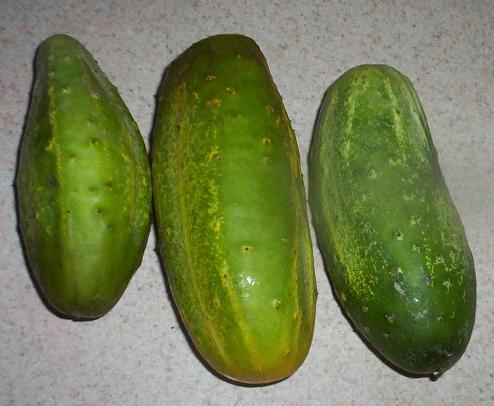cucumber: (149, 32, 319, 384), (304, 62, 477, 380), (11, 29, 149, 324)
